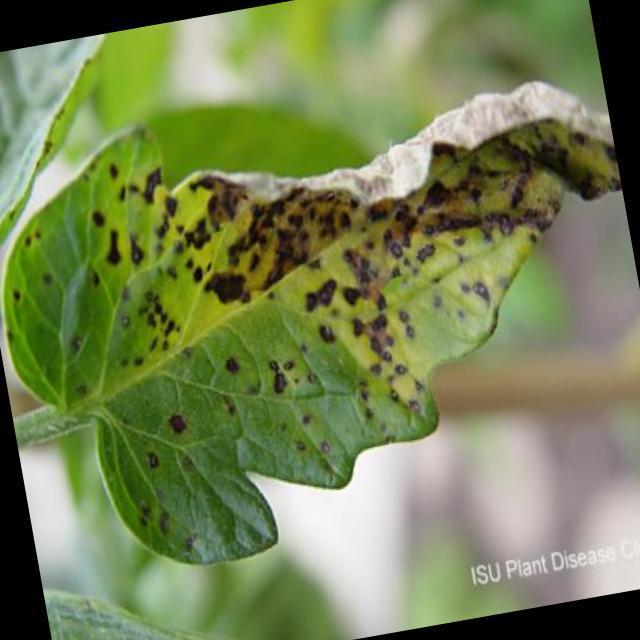Septoria: (56, 84, 636, 556)
